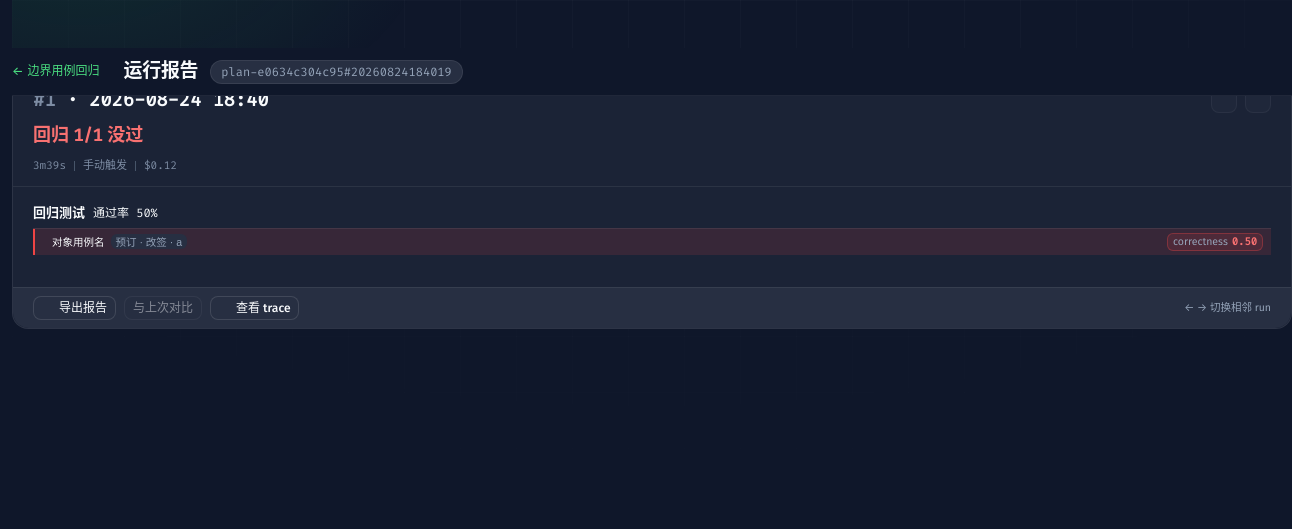
Test: 展开态：证据链 › 行值是对象形态时（后端无 str() 兜）不崩：过 textOf 降级显示
The image size is (1292, 529).
Check: the element with test id "report-drawer-head" is shown, box [13,69,1291,187]
Click the button with test id "report-row-0-0-toggle".
click(78, 243)  # box [33,232,594,251]
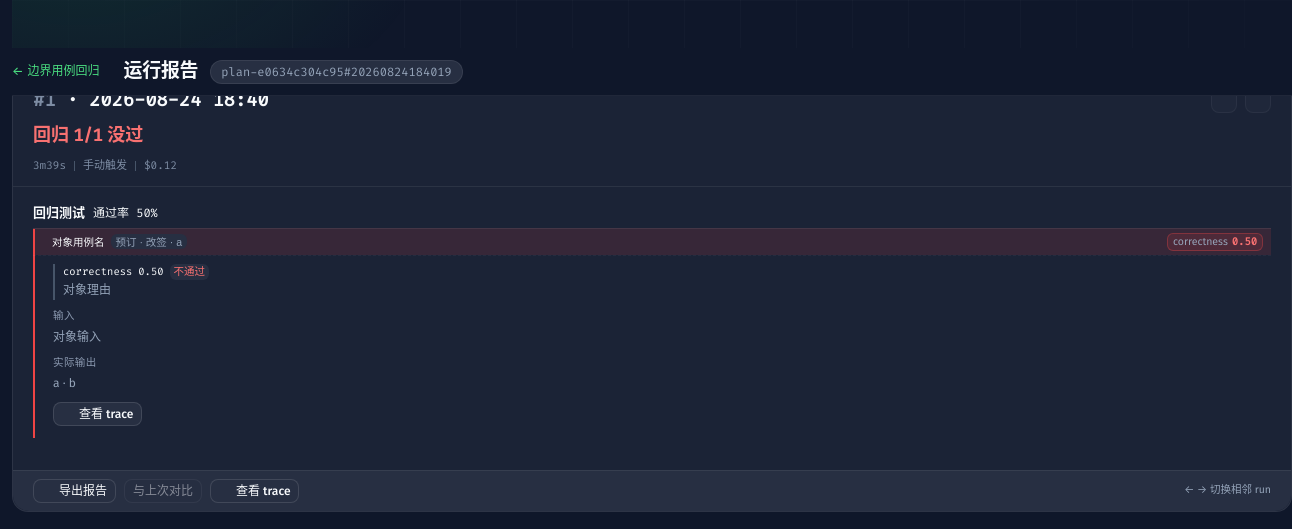
Check: the row with test id "report-row-0-0-body" shows "对象理由", box [63,283,111,297]
